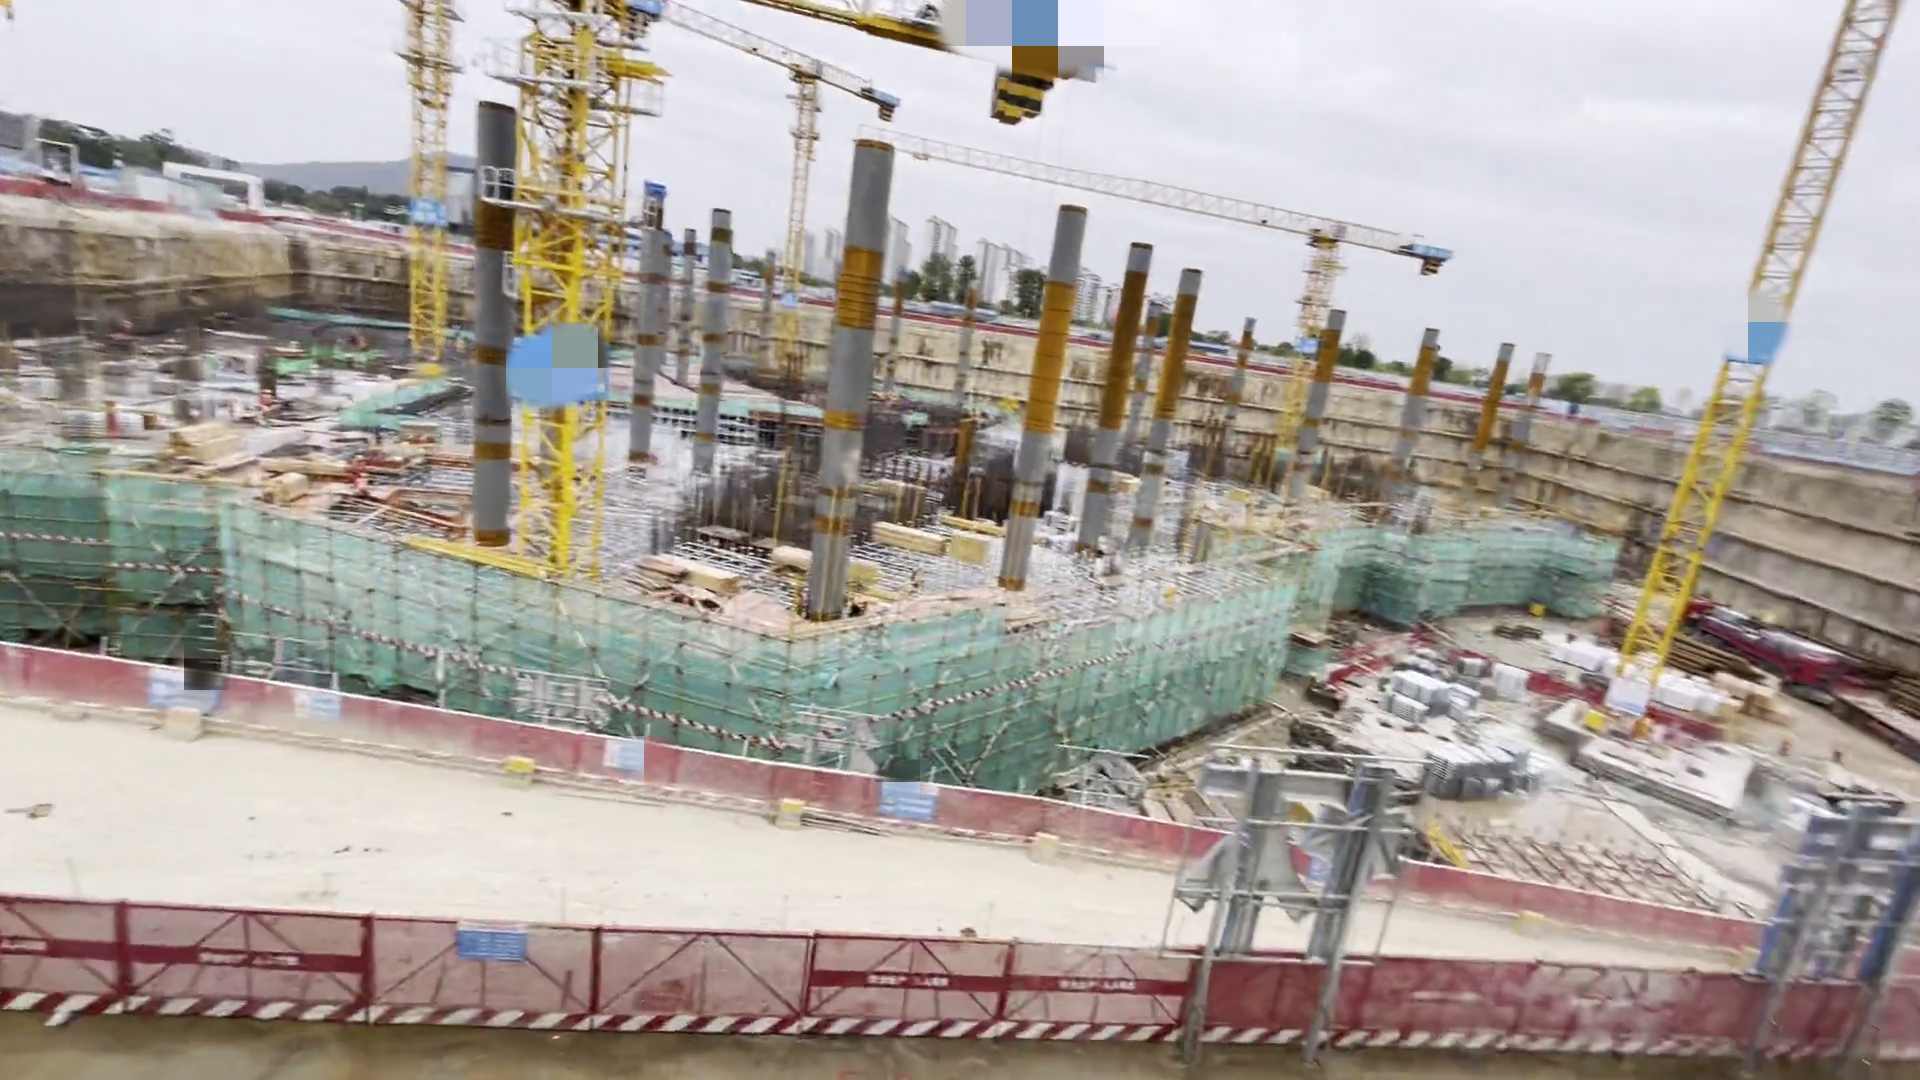fence: (1, 611, 1917, 973), (1, 884, 1920, 1079)
wood: (644, 549, 737, 585), (874, 518, 949, 559)
